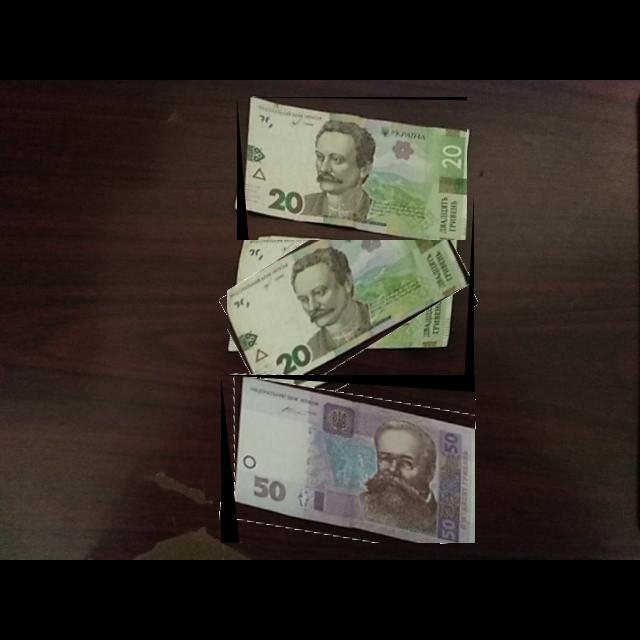20uah: (227, 196, 471, 397), (245, 97, 468, 241)
50uah: (232, 377, 476, 544)
